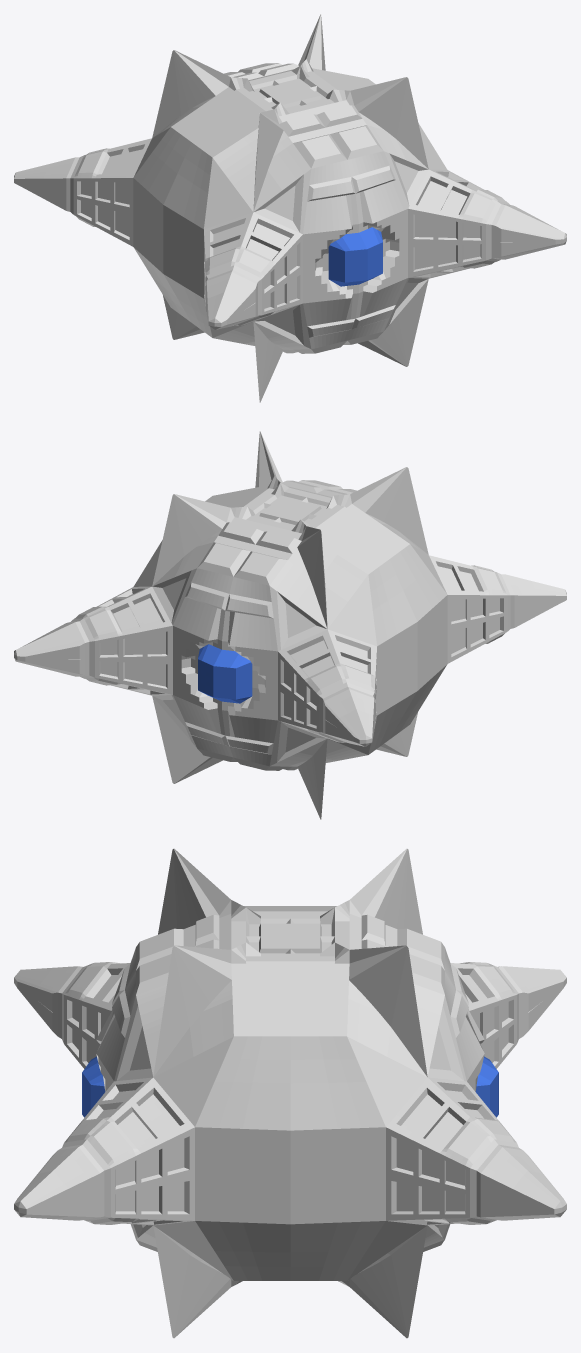
File: dron3.fbx
The picture shows the model from 3 angles, top to bottom: view 1: azimuth 30°, elevation 25°; view 2: azimuth 150°, elevation 25°; view 3: azimuth 270°, elevation 25°; orthographic projection. The views are drawn at different scales.
Parts seen in each view (by area): view 1: Cube; view 2: Cube; view 3: Cube.
Boxes of the visible parts, box(x1,y1,x2,y2) form: Cube: box(14, 14, 566, 402); Cube: box(14, 431, 566, 819); Cube: box(14, 848, 566, 1338).
Bounding box in the file's own units: 3.87 × 3.92 × 3.04.
